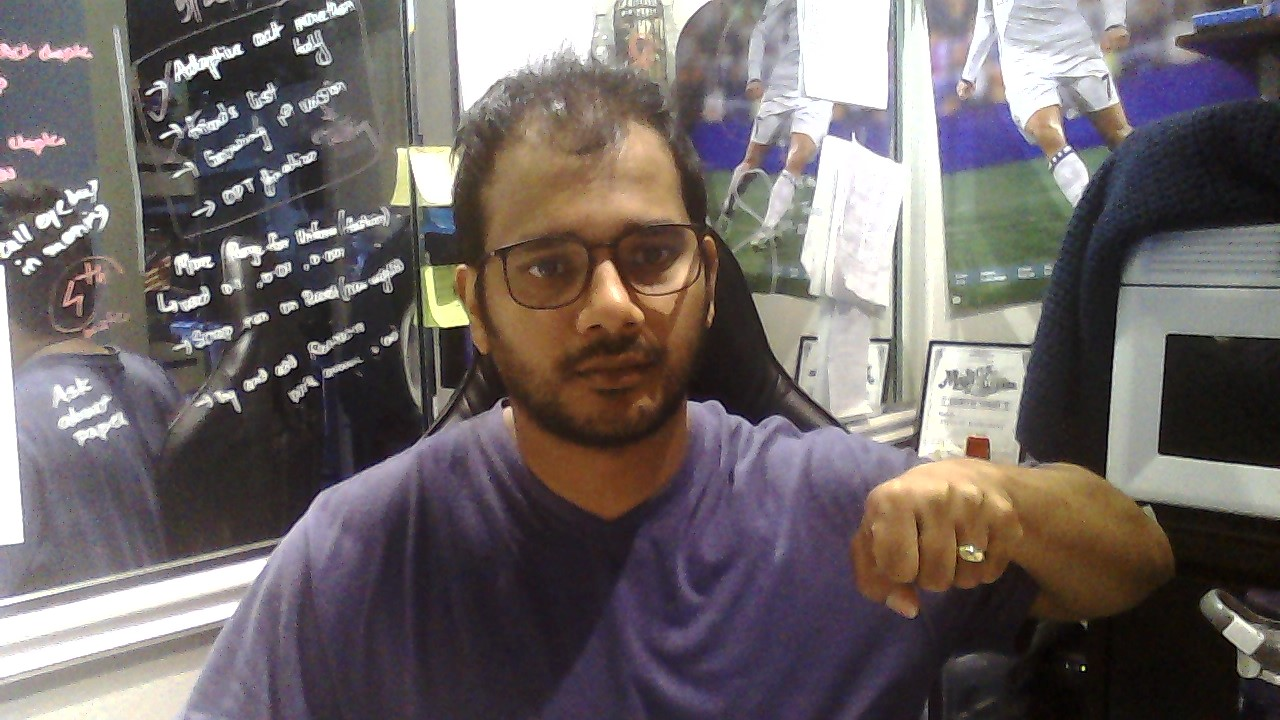Yes: (851, 459, 1023, 621)
